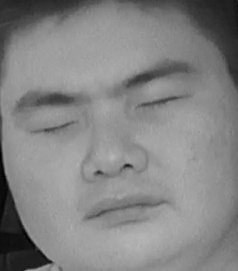blink: (140, 84, 188, 121), (28, 110, 78, 142)
mouth: (77, 186, 169, 232)
